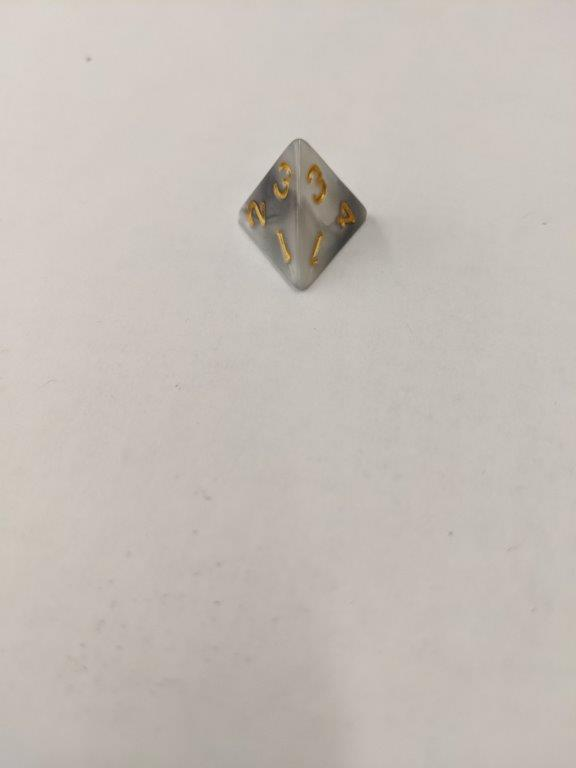d4-3: (231, 136, 374, 291)
